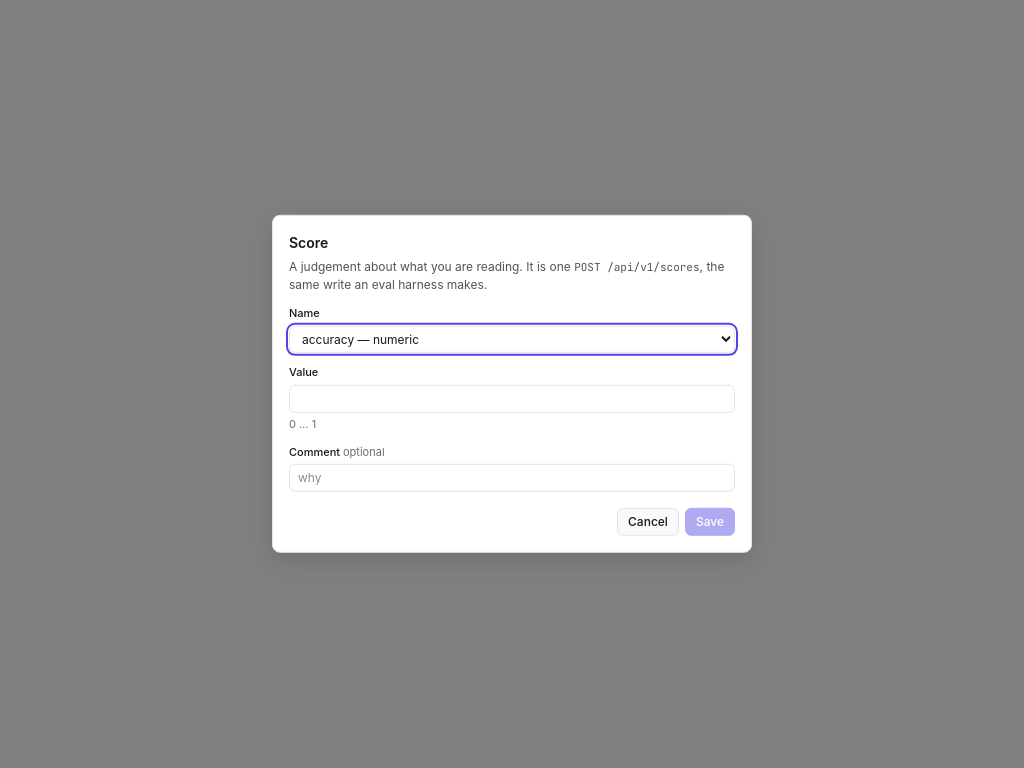
Test: what Save posts › shows the server refusal at the field it names
Select "accuracy — numeric" in the dropdown labelled "Name": (512, 339) [289, 325, 735, 352]
In the number field labelled "Value": (512, 398) [289, 384, 735, 412], type "1.5"
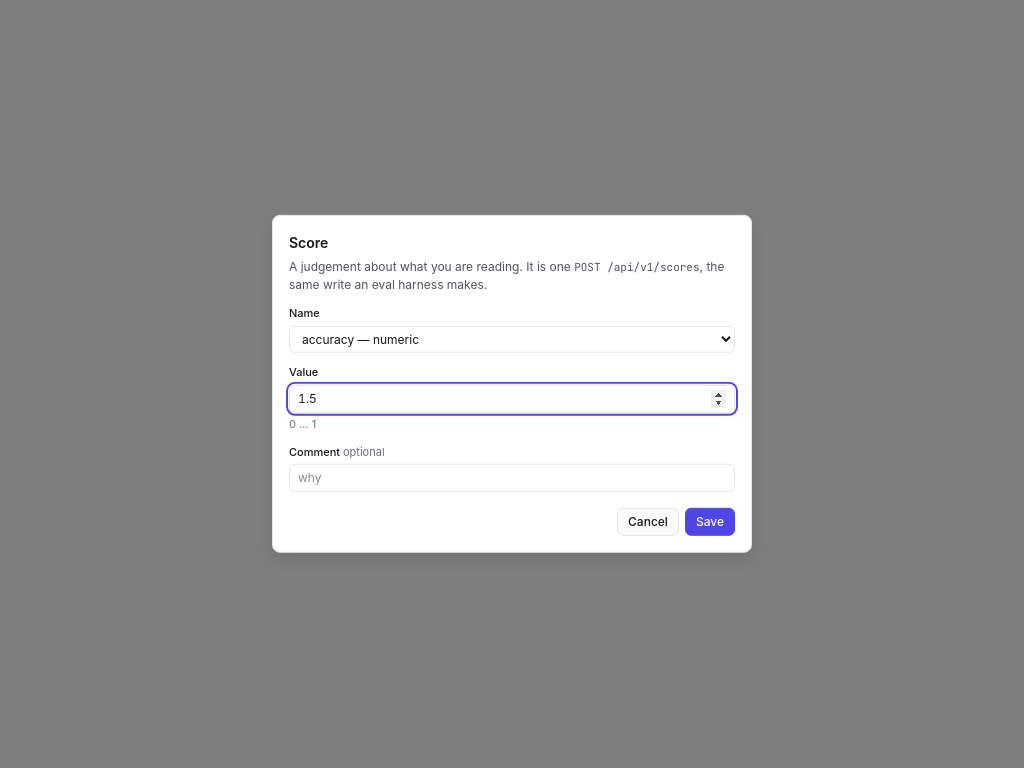
Click the button "Save": (710, 522) [685, 508, 735, 536]
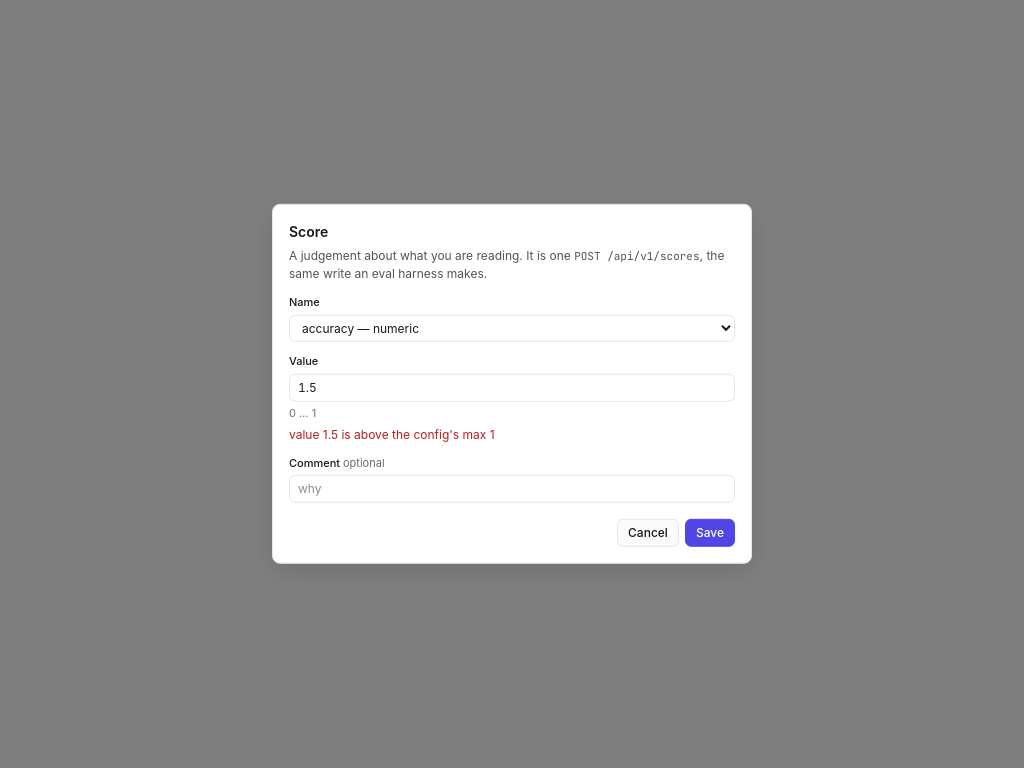
Expected: the message shows "above the config", [289, 426, 495, 441]
